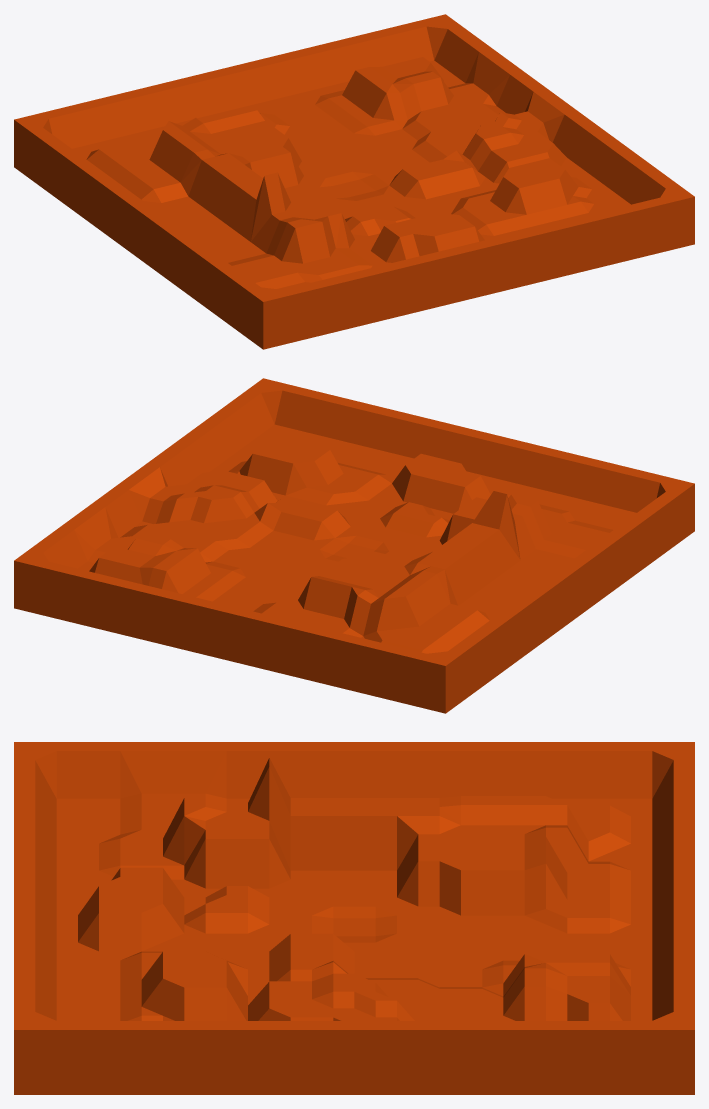
File: levelfinal.obj
3 views of the same model, one above another, from view 1: azimuth 30°, elevation 25°; view 2: azimuth 150°, elevation 25°; view 3: azimuth 270°, elevation 25° (orthographic). The views are drawn at different scales.
Parts seen in each view (by area): view 1: Cube; view 2: Cube; view 3: Cube.
Boxes of the visible parts, box(x1,y1,x2,y2) form: Cube: box(14, 14, 694, 349); Cube: box(14, 378, 694, 713); Cube: box(14, 742, 694, 1094).
Size of the model in its own units: 5000 by 913 by 5000.
